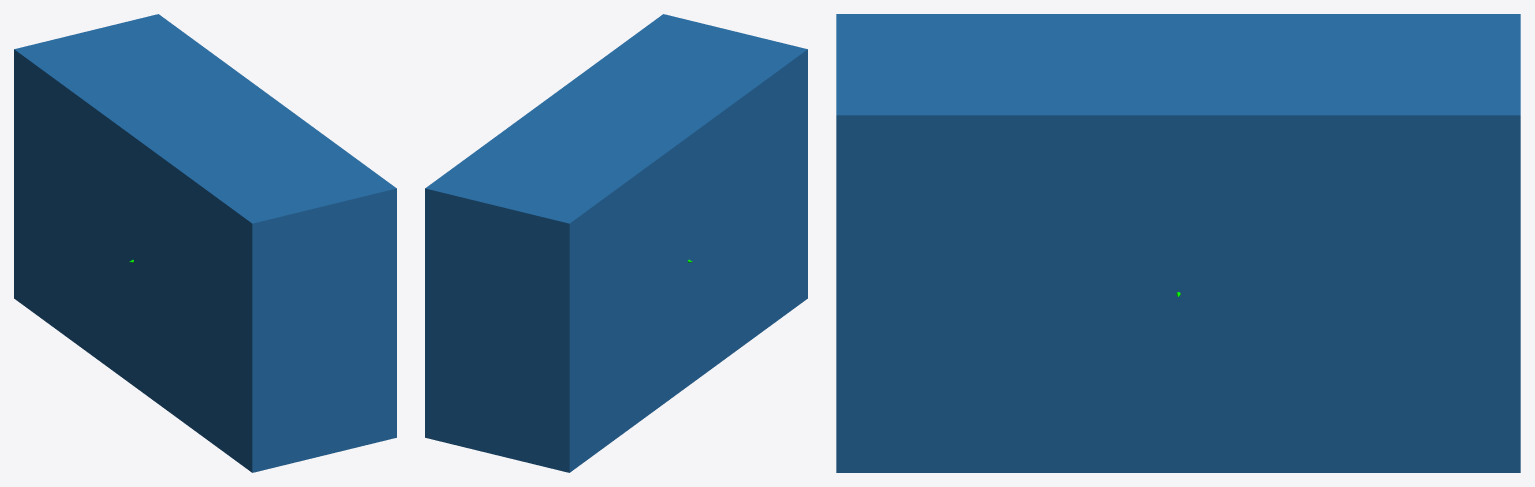
Rendered from Phase06.fbx.
3 views of the same model, side by side, from view 1: azimuth 30°, elevation 25°; view 2: azimuth 150°, elevation 25°; view 3: azimuth 270°, elevation 25° (orthographic). The views are drawn at different scales.
Visible parts, largest first — view 1: Воздуховод прямоугольного сечения:CPS_Оцинковка_Врезки_ГОСТ ; view 2: Воздуховод прямоугольного сечения:CPS_Оцинковка_Врезки_ГОСТ ; view 3: Воздуховод прямоугольного сечения:CPS_Оцинковка_Врезки_ГОСТ .
Part boxes in pixels (box(x1,y1,x2,y2)): Воздуховод прямоугольного сечения:CPS_Оцинковка_Врезки_ГОСТ : box(14, 14, 396, 472); Воздуховод прямоугольного сечения:CPS_Оцинковка_Врезки_ГОСТ : box(425, 14, 807, 472); Воздуховод прямоугольного сечения:CPS_Оцинковка_Врезки_ГОСТ : box(836, 14, 1520, 472).
Bounding box in the file's own units: 1298 × 3500 × 2020.
